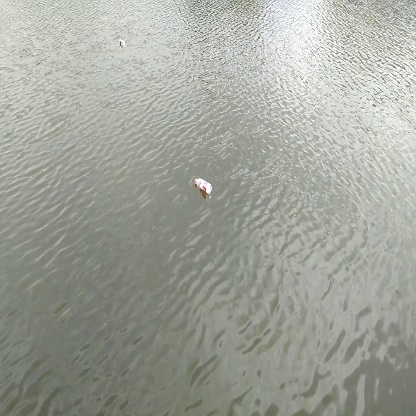bottle: (188, 174, 218, 201)
